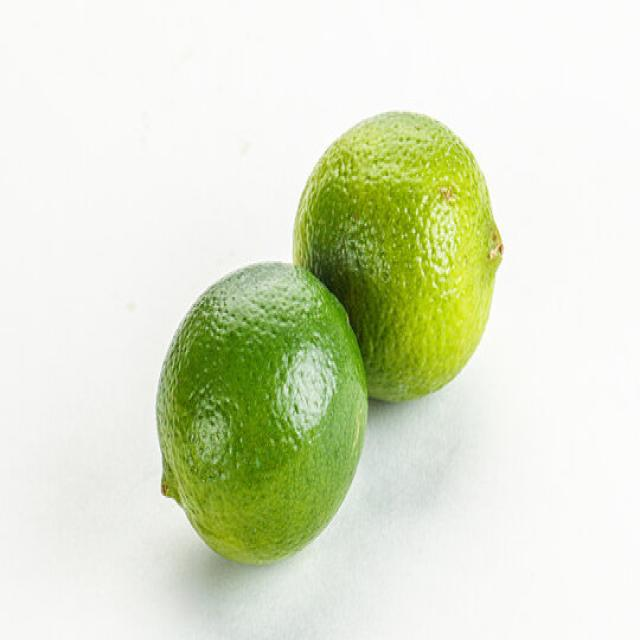Lemon: (154, 258, 369, 565), (290, 106, 504, 404)
